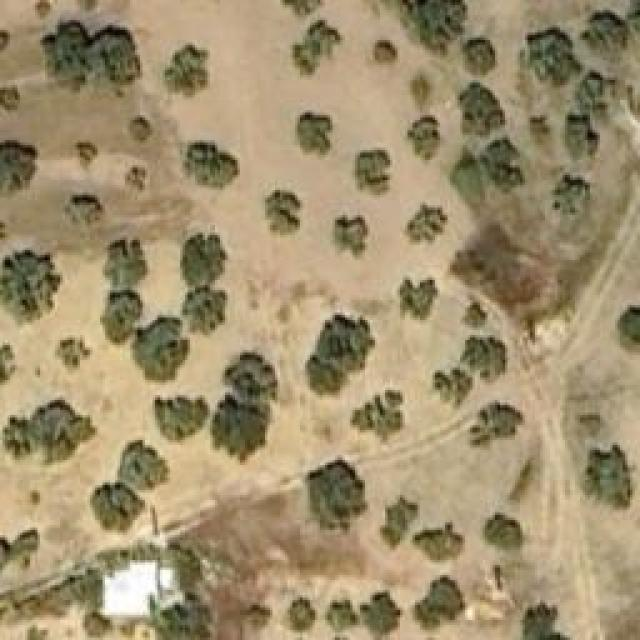Tree: (307, 315, 375, 390), (0, 250, 60, 328), (308, 457, 368, 535), (450, 138, 525, 198), (398, 0, 467, 58), (33, 400, 96, 460), (210, 395, 268, 460), (133, 317, 188, 385), (525, 28, 580, 91), (413, 572, 466, 630), (350, 388, 405, 443), (585, 445, 633, 508), (90, 25, 138, 88), (118, 438, 171, 493), (163, 42, 213, 100), (468, 402, 528, 450), (180, 225, 228, 285), (457, 80, 505, 138), (293, 20, 343, 75), (45, 25, 90, 86), (90, 483, 140, 533), (153, 395, 208, 440), (183, 143, 238, 188), (463, 335, 508, 388), (223, 353, 276, 398), (378, 495, 421, 548), (580, 10, 630, 55), (0, 140, 38, 198), (413, 523, 466, 563), (523, 600, 576, 640), (103, 290, 143, 343), (183, 288, 228, 331), (263, 187, 303, 235), (360, 593, 403, 636), (428, 370, 473, 410), (398, 278, 438, 321), (105, 240, 145, 283), (332, 215, 370, 258), (295, 108, 333, 151), (408, 205, 448, 245), (563, 112, 596, 160), (552, 175, 590, 215), (355, 148, 390, 191), (455, 38, 498, 73), (408, 115, 441, 160), (55, 335, 93, 373), (485, 513, 523, 548), (578, 73, 611, 113), (285, 597, 315, 640), (65, 195, 103, 228), (405, 68, 435, 108), (530, 115, 555, 158), (5, 418, 30, 461), (617, 305, 640, 342), (0, 340, 18, 385), (370, 40, 398, 68), (328, 603, 358, 628), (128, 117, 153, 145), (463, 302, 488, 330), (278, 0, 321, 15), (0, 88, 20, 113), (128, 165, 148, 188), (77, 143, 95, 163), (32, 0, 50, 18)
